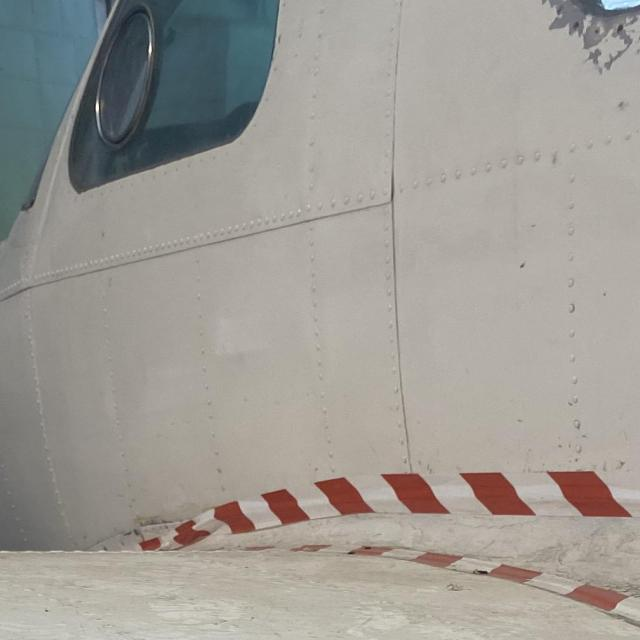Paint-off: (480, 518, 640, 594), (576, 23, 612, 68)
